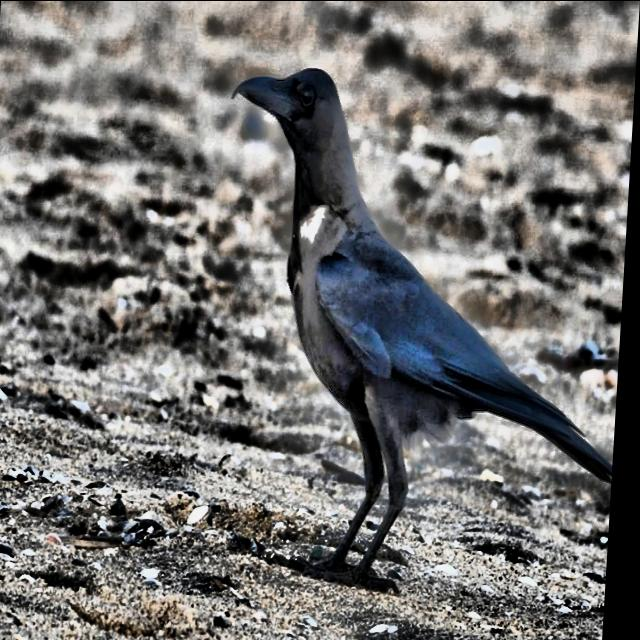crow: (203, 45, 638, 640)
